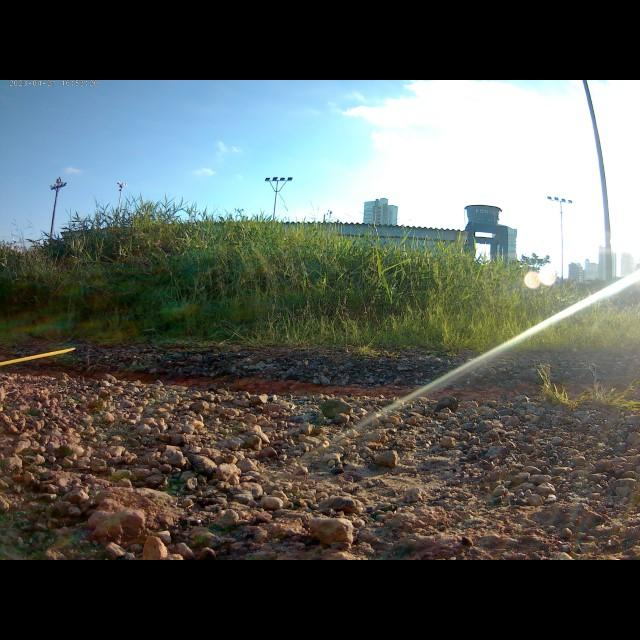ravina: (1, 358, 640, 410)
